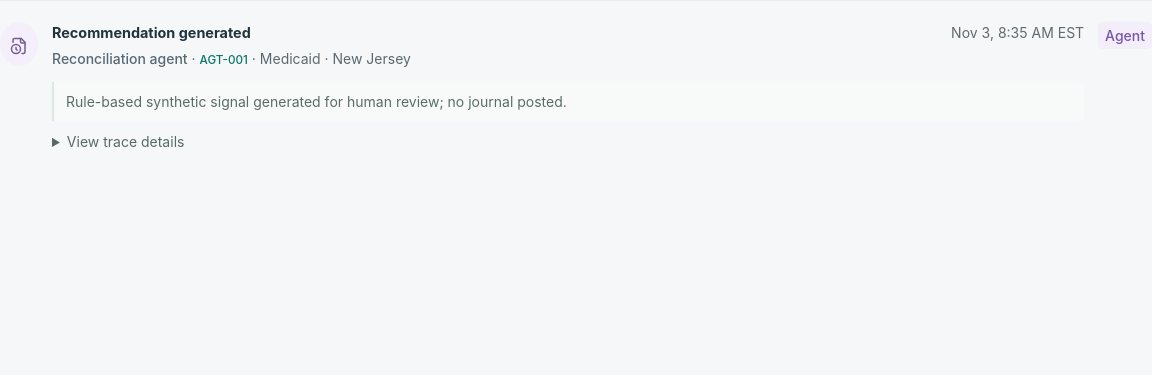
Test: opens an audit target and exposes trace details
Click the button "AGT-001". click: (224, 60)
box: 200,49 -> 248,72
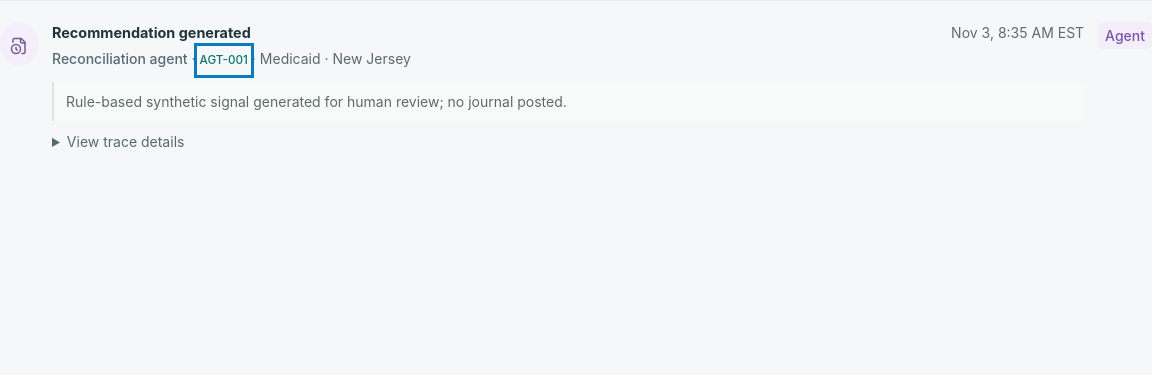
Click the heading "View trace details". click: (126, 142)
box: 67,133 -> 184,150
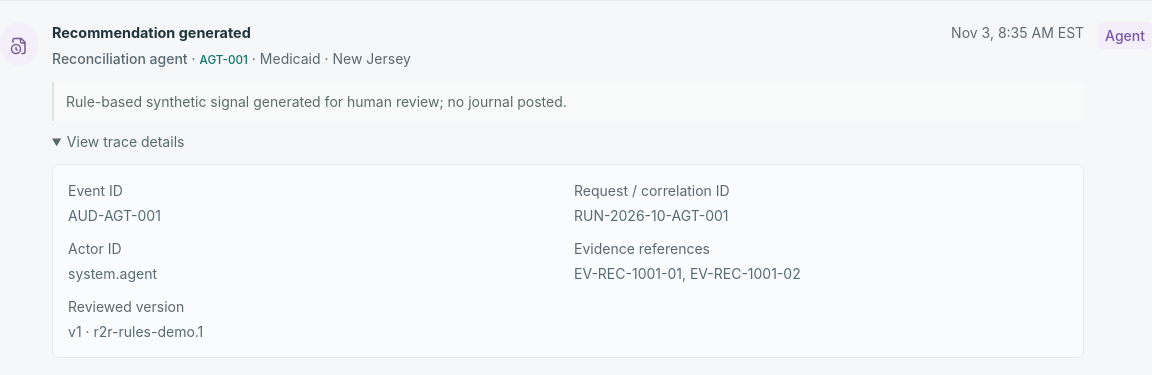
Check: the text "EV-REC-1001-01, EV-REC-1001-02" is shown, box 574,265 -> 801,282
